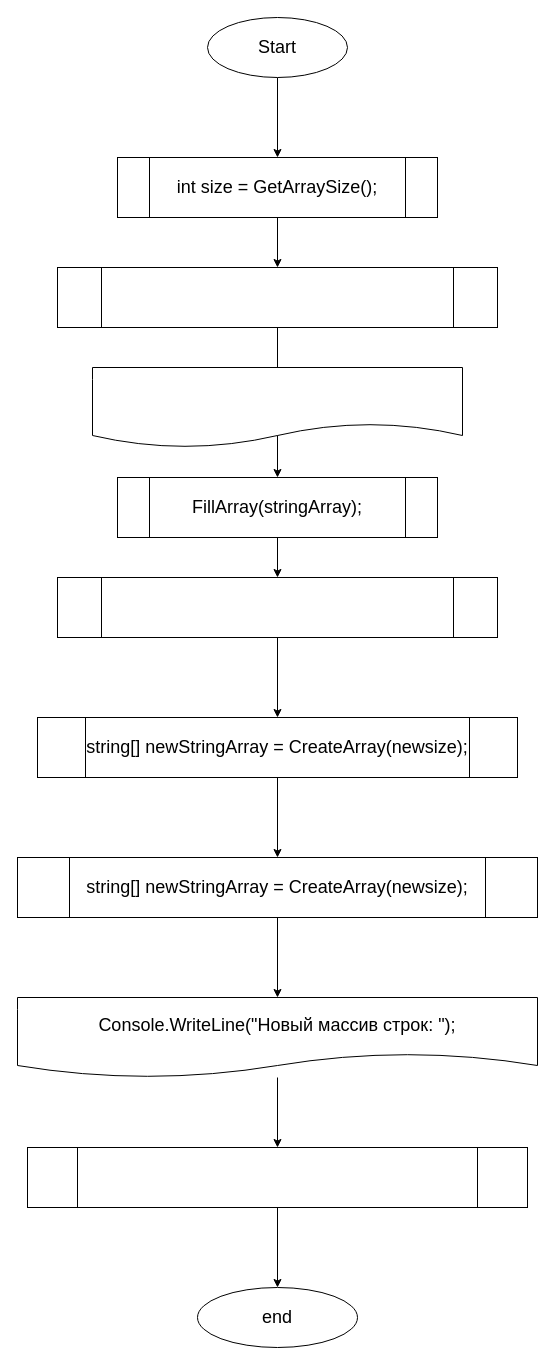
This 555x1365 diagram has some shape labels left out. Here are the shapes that lost their labels. From the top down, the box of each, then its label:
(56, 266, 498, 328): string[] stringArray = CreateArray(size);
(56, 576, 498, 638): int newsize = GetArrayRandomSize();
(26, 1146, 528, 1208): FillNewStringArray(stringArray, newStringArray);
